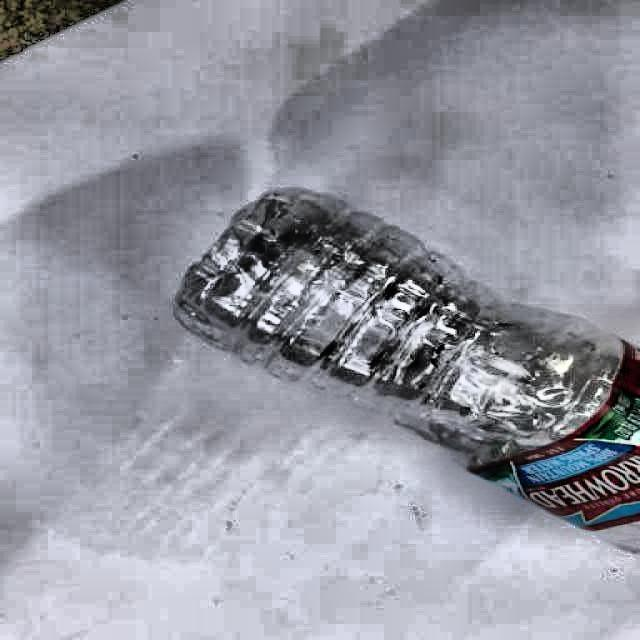plastic: (175, 189, 640, 552)
